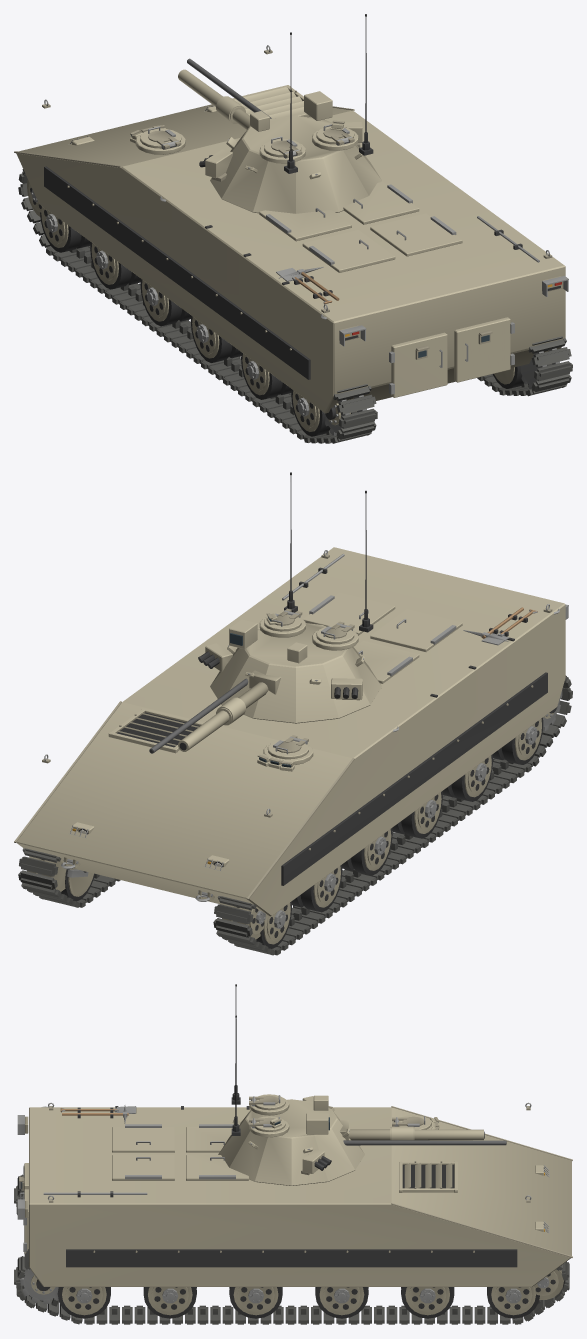
The model's file is rus_ifv_bmp3.glb.
3 views of the same model, one above another, from view 1: azimuth 30°, elevation 25°; view 2: azimuth 150°, elevation 25°; view 3: azimuth 270°, elevation 25° (orthographic). The views are drawn at different scales.
Parts seen in each view (by area): view 1: body, turret, barrel; view 2: body, turret, barrel; view 3: body, turret, barrel.
Part boxes in pixels (box(x1,y1,x2,y2)): body: box(14, 45, 572, 443); turret: box(199, 14, 381, 213); barrel: box(178, 58, 271, 129); body: box(14, 547, 572, 955); turret: box(198, 472, 381, 723); barrel: box(149, 670, 280, 753); body: box(14, 1102, 572, 1324); turret: box(218, 984, 364, 1185); barrel: box(339, 1120, 506, 1145).
Bounding box in the file's own units: 3.23 × 4.12 × 7.55.
